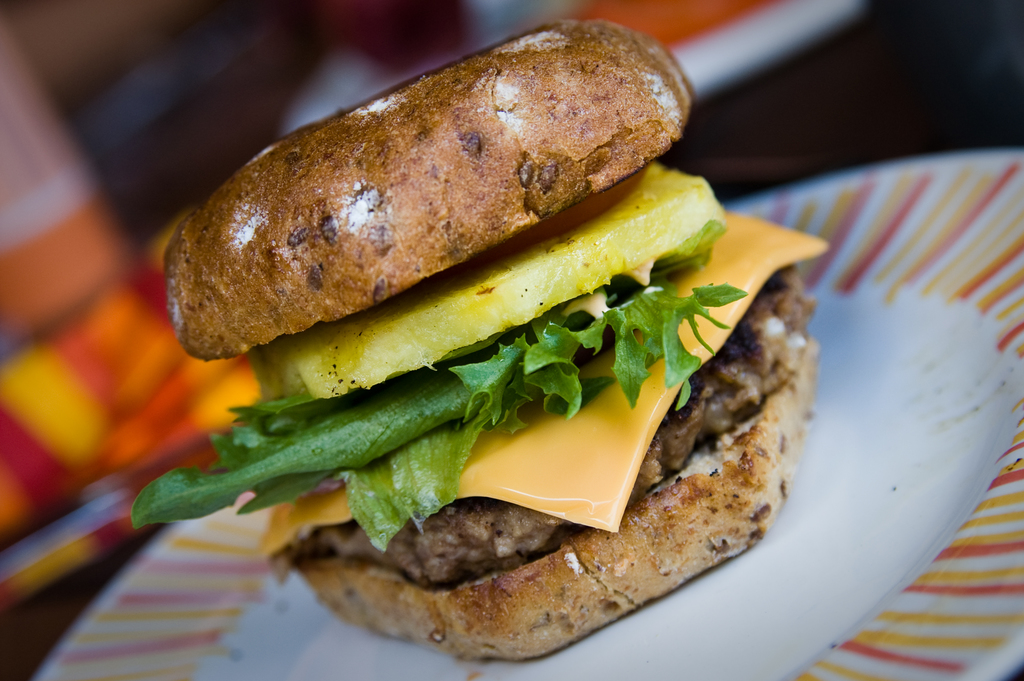Hamburger: (131, 22, 831, 660)
